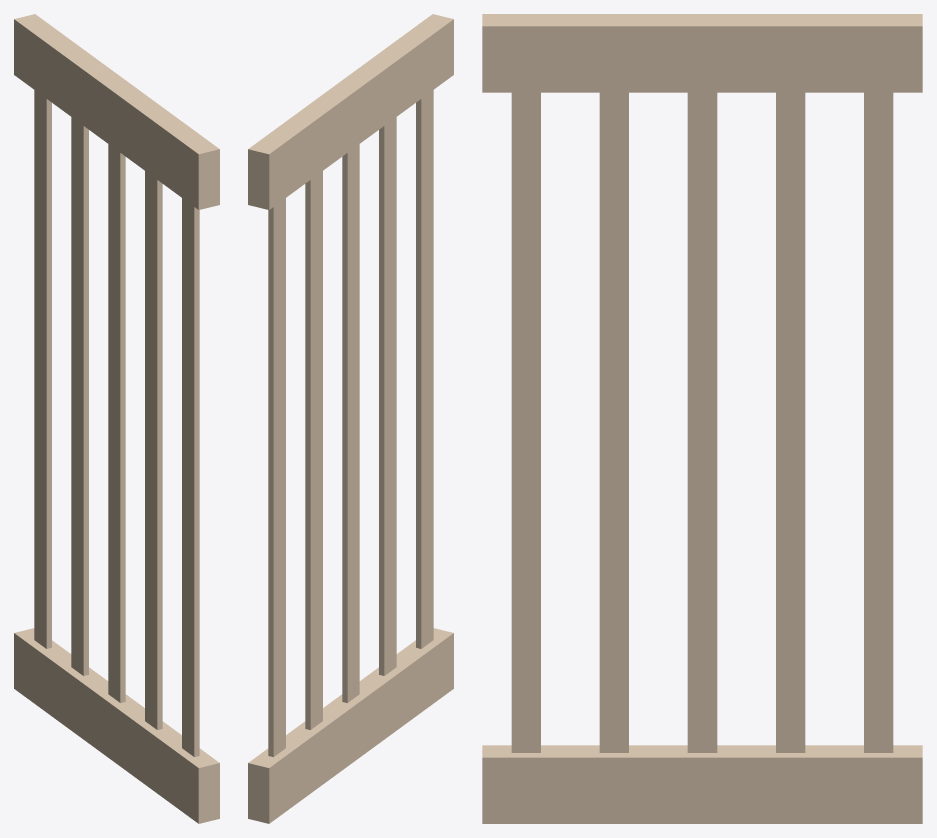
The model's file is babyfencesegment.fbx.
3 renders of one model, left to right at view 1: azimuth 30°, elevation 25°; view 2: azimuth 150°, elevation 25°; view 3: azimuth 270°, elevation 25°, orthographic. The views are drawn at different scales.
Visible parts, largest first — view 1: 5poles; view 2: 5poles; view 3: 5poles.
Boxes of the visible parts, x1,y1,x2,y2 form: 5poles: (14, 14, 219, 823); 5poles: (248, 14, 453, 823); 5poles: (482, 14, 922, 823).
Size of the model in its own units: 39.6 by 1200 by 600.
